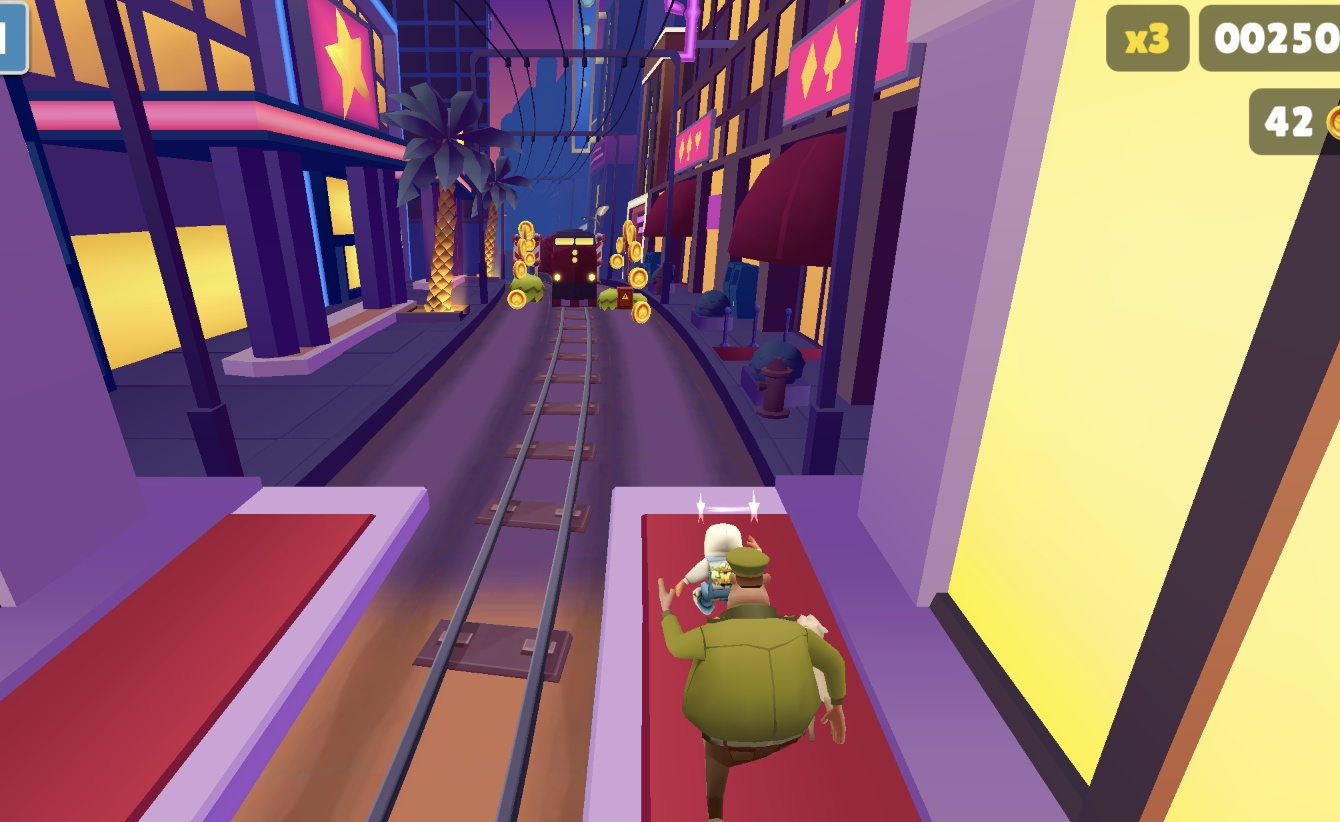bush: (509, 267, 544, 296), (599, 284, 619, 307), (632, 284, 647, 306)
overhead_barrier: (514, 229, 541, 270), (599, 231, 621, 274)
small_obstacle: (618, 281, 633, 305)
train: (532, 224, 600, 303)
